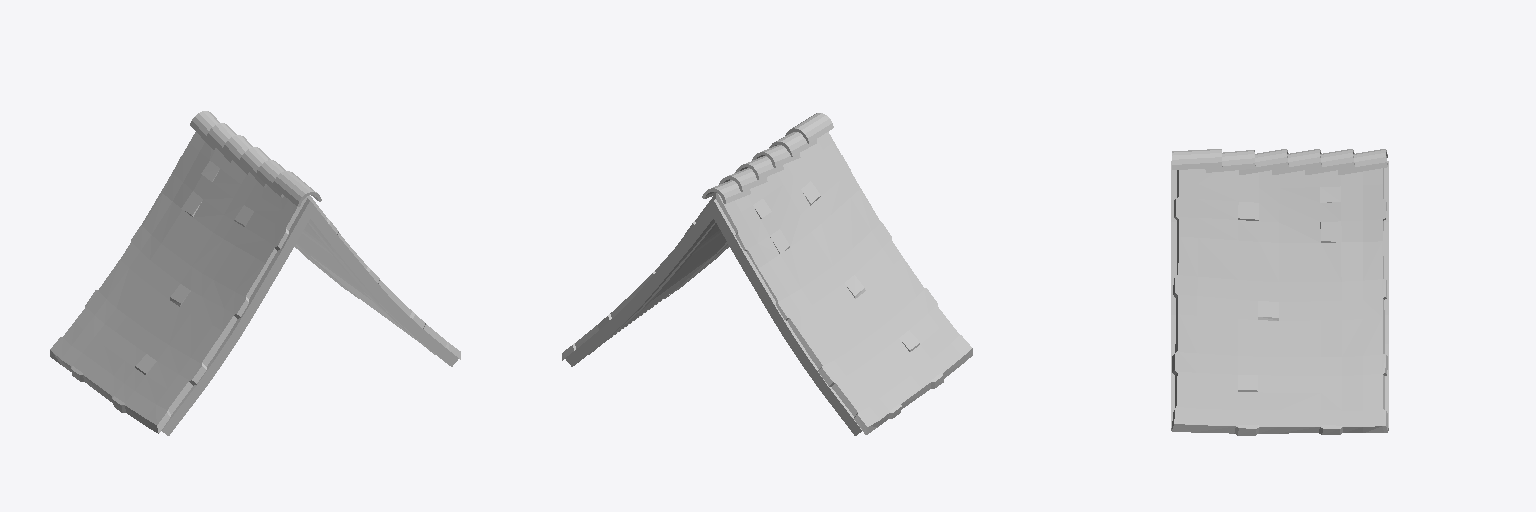
File: Roof_FlatTiles_6x4.obj
The picture shows the model from 3 angles: view 1: azimuth 30°, elevation 25°; view 2: azimuth 150°, elevation 25°; view 3: azimuth 270°, elevation 25°; orthographic projection.
Visible parts, largest first — view 1: Roof_FlatTiles_6x4; view 2: Roof_FlatTiles_6x4; view 3: Roof_FlatTiles_6x4.
Part boxes in pixels (x1,y1,x2,y2): Roof_FlatTiles_6x4: (50,111,460,435); Roof_FlatTiles_6x4: (562,113,972,435); Roof_FlatTiles_6x4: (1171,149,1388,435).
Bounding box in the file's own units: 8.26 × 5.4 × 5.